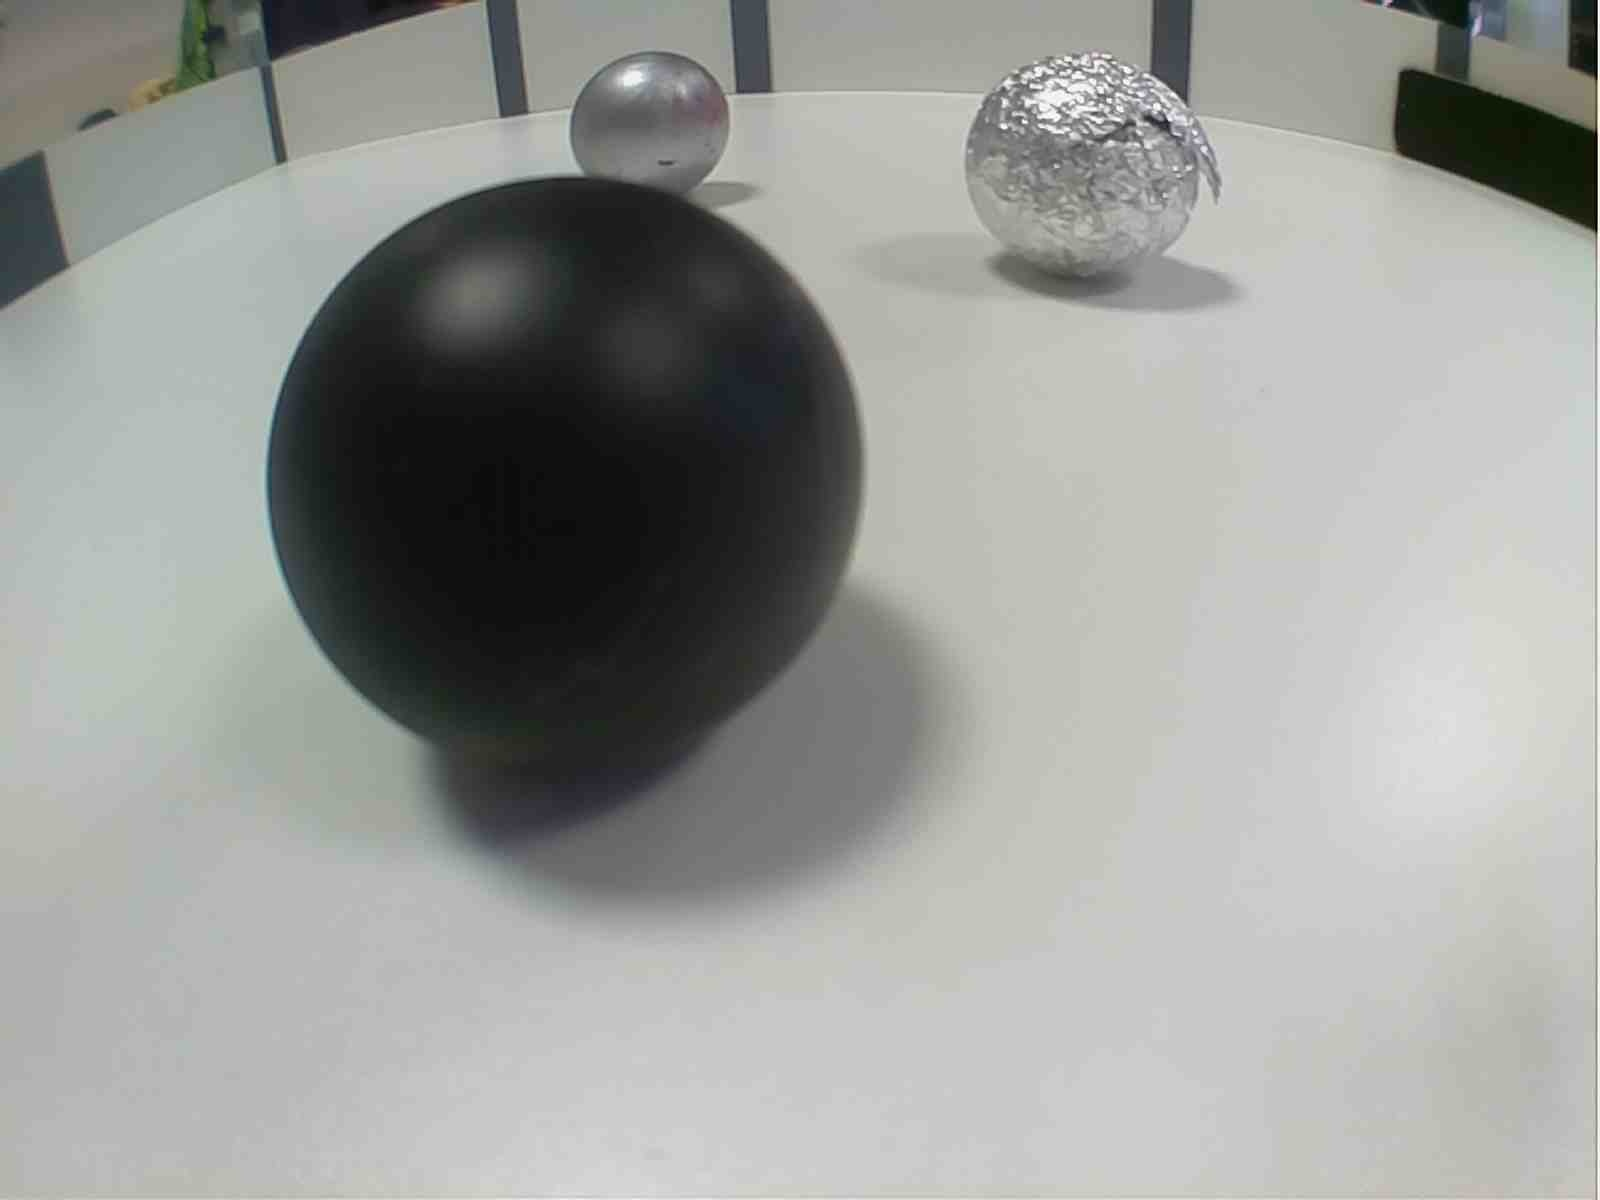bianca: (963, 45, 1209, 292), (562, 50, 731, 221)
nera: (265, 174, 868, 776)
